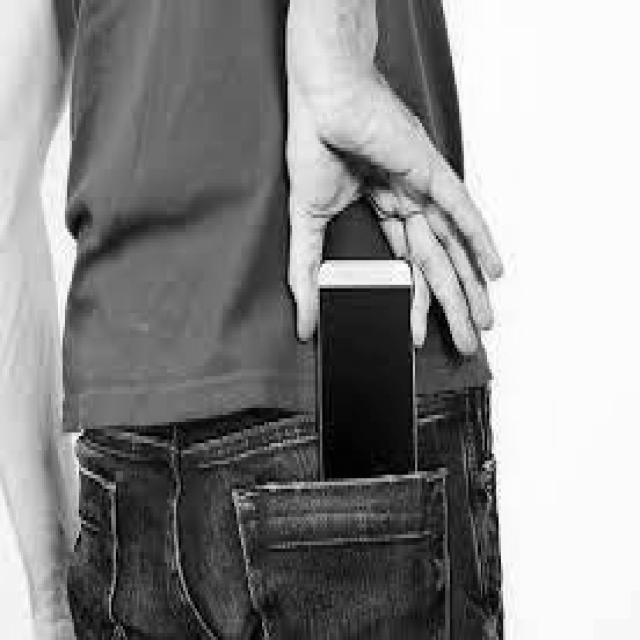No gun_phone: (316, 261, 418, 480)
